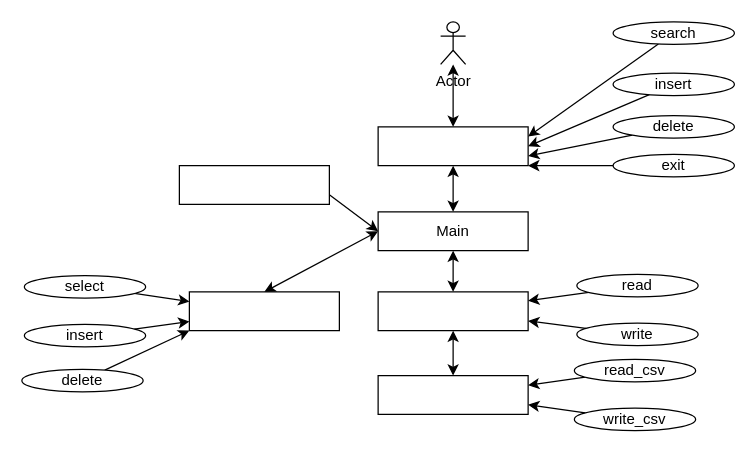
Some shapes in this 756 by 453 pixel diagram are drawn without their labels. The centre of each missing label's shape, as x and y in pixels:
Adapter_CSV: the point at 452,311
AppDataStore: the point at 263,311
DataLoader_CSV: the point at 452,394
DataView: the point at 253,184
UI: the point at 452,146
